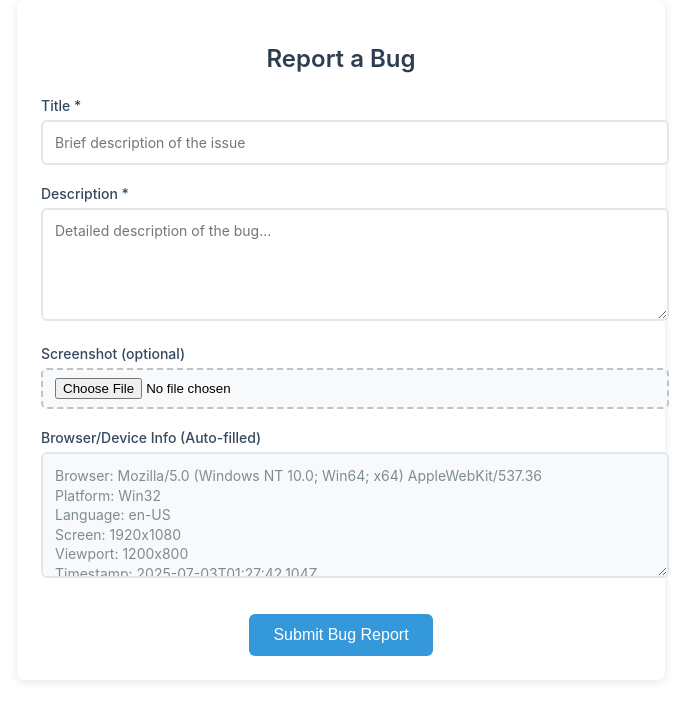
BugReportForm › Clear Form on Success › clears validation errors after successful submission
// First submit empty form to trigger errors
Click the button "Submit Bug Report": (341, 635) top-left (249, 614), bottom-right (433, 656)
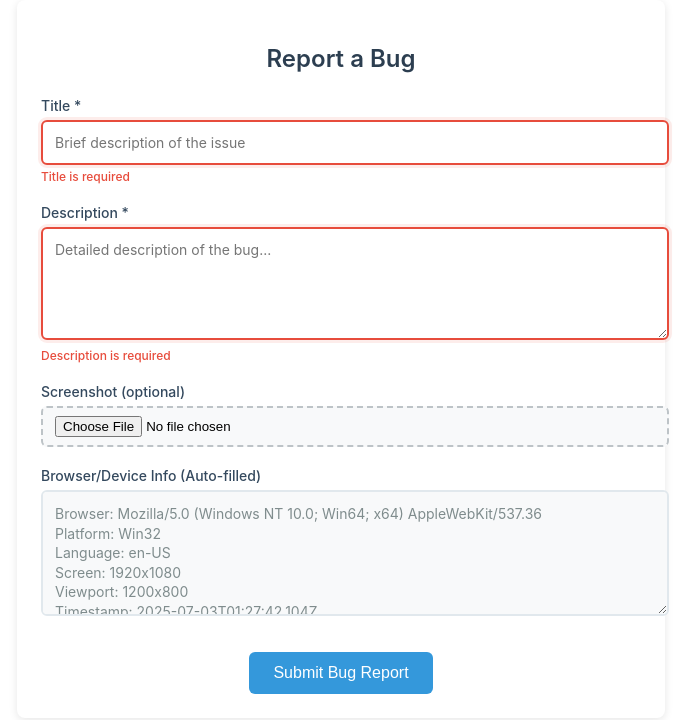
Check: the text "Title is required" is shown, box top-left (41, 169), bottom-right (130, 184)
Check: the text "Description is required" is shown, box top-left (41, 348), bottom-right (171, 363)
// Fill form and submit successfully
In the field labelled "Title *": (355, 142) top-left (41, 120), bottom-right (669, 165), type "Bug Title"
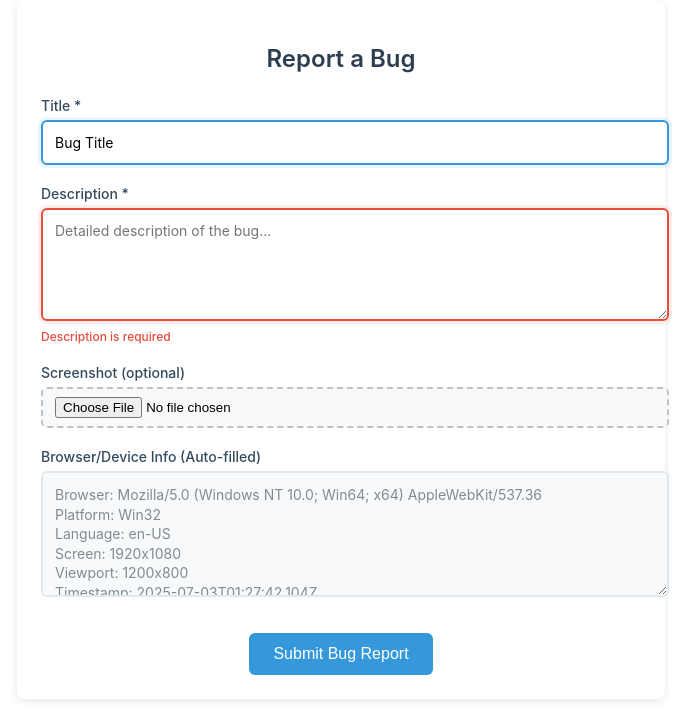
In the text box labelled "Description *": (355, 264) top-left (41, 208), bottom-right (669, 321), type "Bug Description"
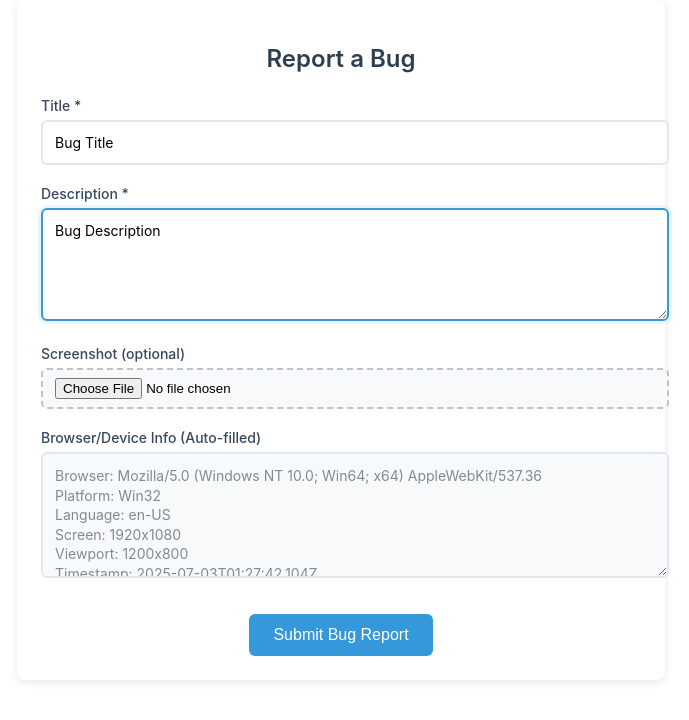
Click the button "Submit Bug Report": (341, 635) top-left (249, 614), bottom-right (433, 656)
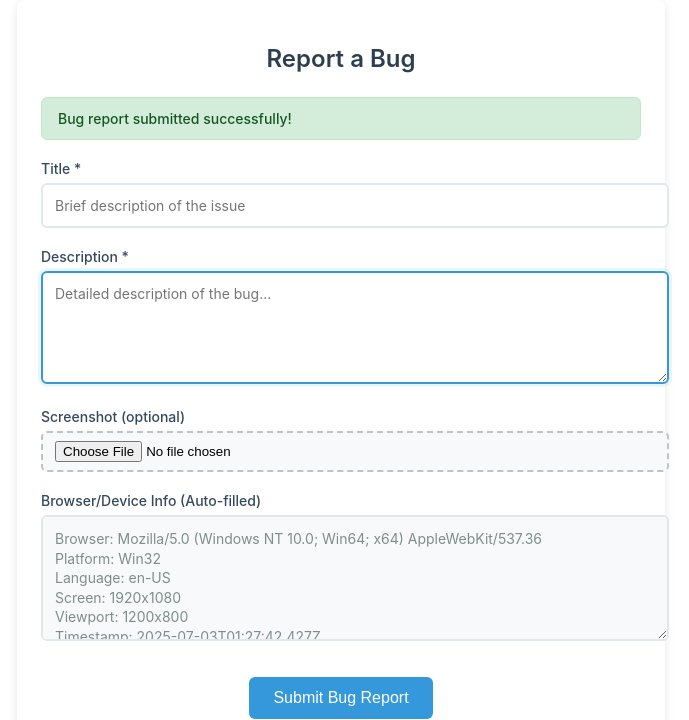
Check: the text "Title is required" is not shown
Check: the text "Bug report submitted successfully!" is shown, box top-left (41, 97), bottom-right (641, 140)
